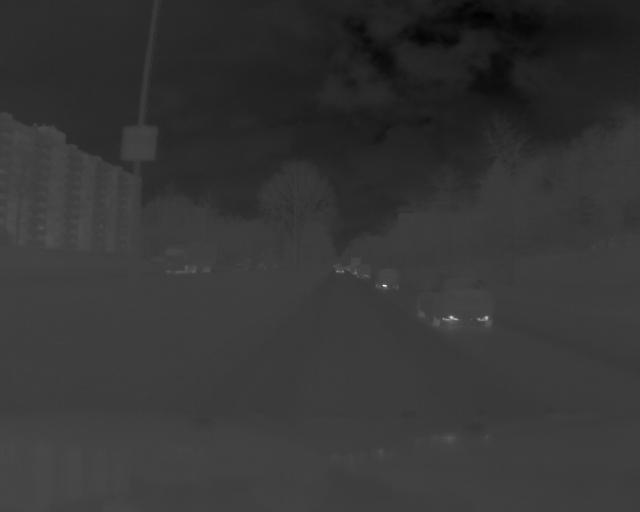car: (413, 276, 499, 330), (372, 264, 403, 290), (355, 264, 371, 278), (334, 261, 345, 275)
